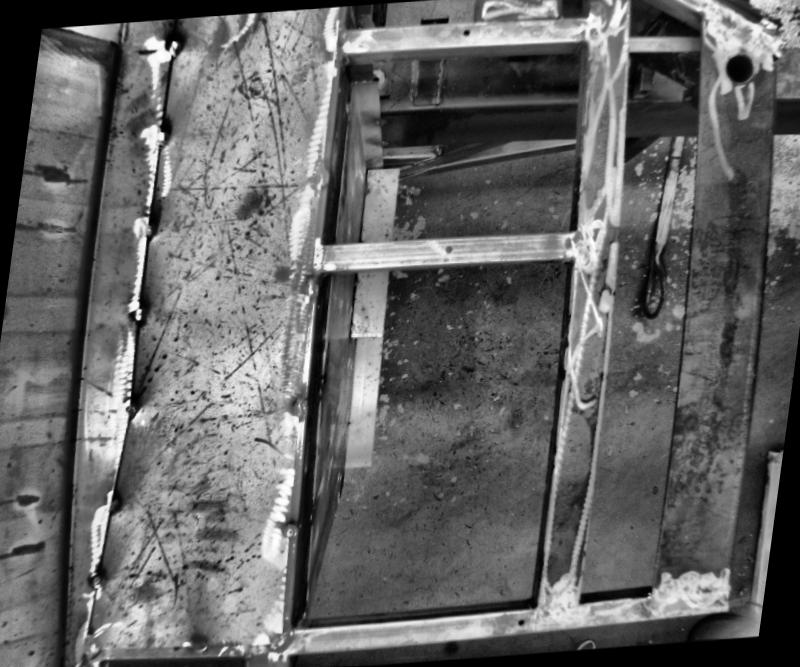hole: (717, 52, 757, 90), (443, 246, 452, 254), (461, 30, 470, 37), (516, 618, 524, 624)
